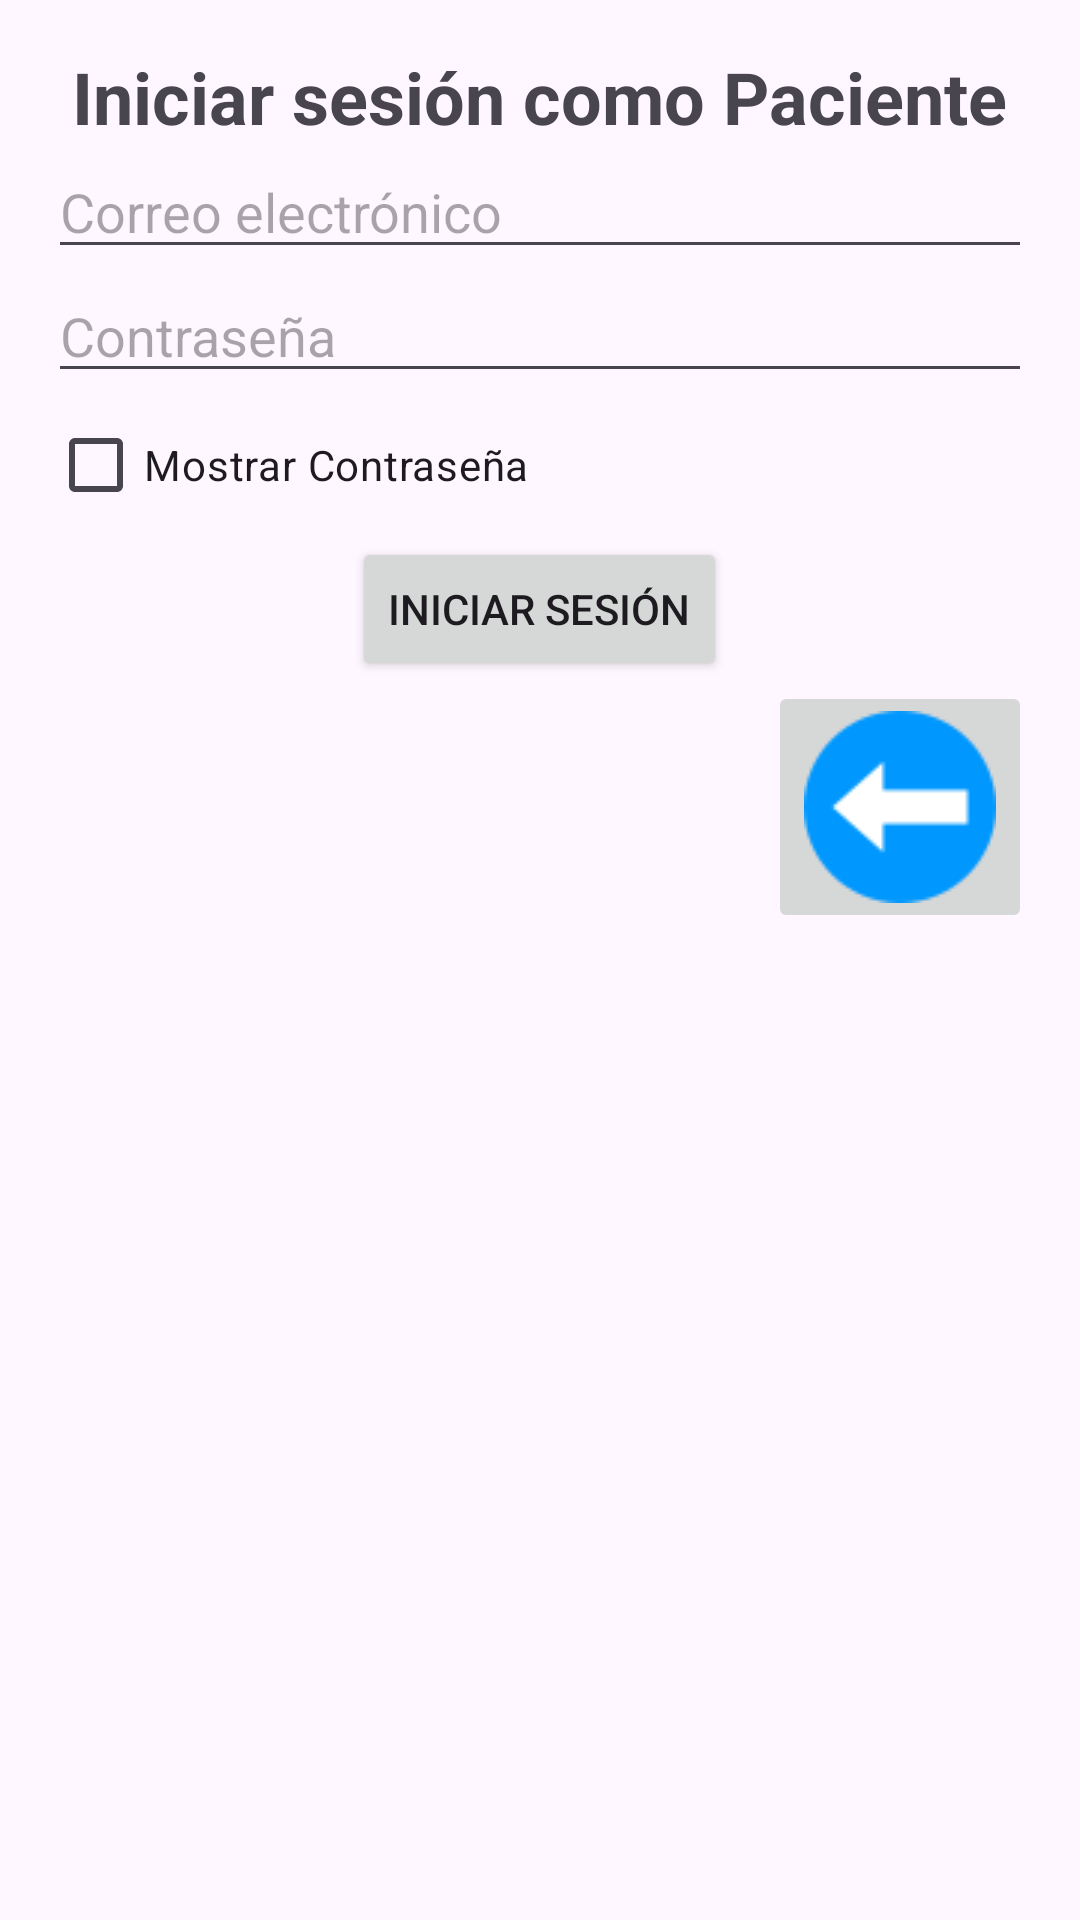

Screen size 1080 x 1920. Icon name, then its box in pixels as (x1, y1, x2, y2):
volver: (780, 699, 1020, 915)
